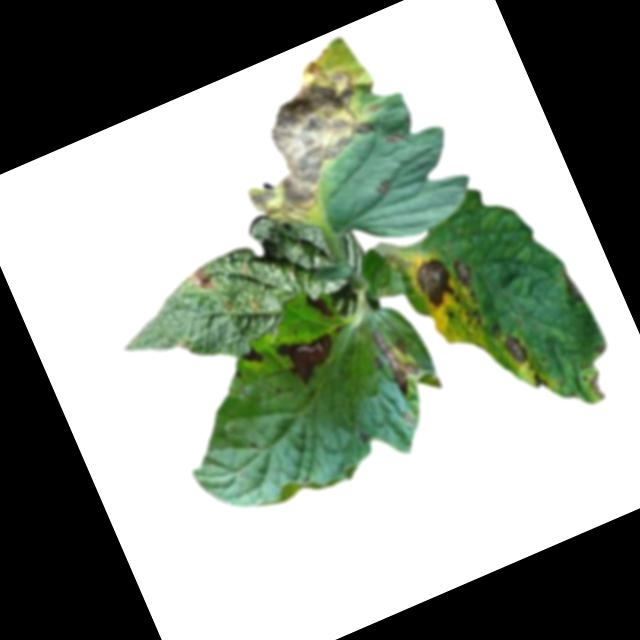Early_blight: (206, 40, 394, 231), (363, 317, 427, 402), (274, 322, 347, 392), (408, 251, 463, 316), (499, 329, 533, 367), (305, 287, 338, 324), (582, 365, 612, 402), (449, 256, 478, 291), (187, 263, 217, 296), (236, 338, 267, 369), (556, 265, 582, 299), (383, 125, 407, 147), (372, 177, 394, 200)
